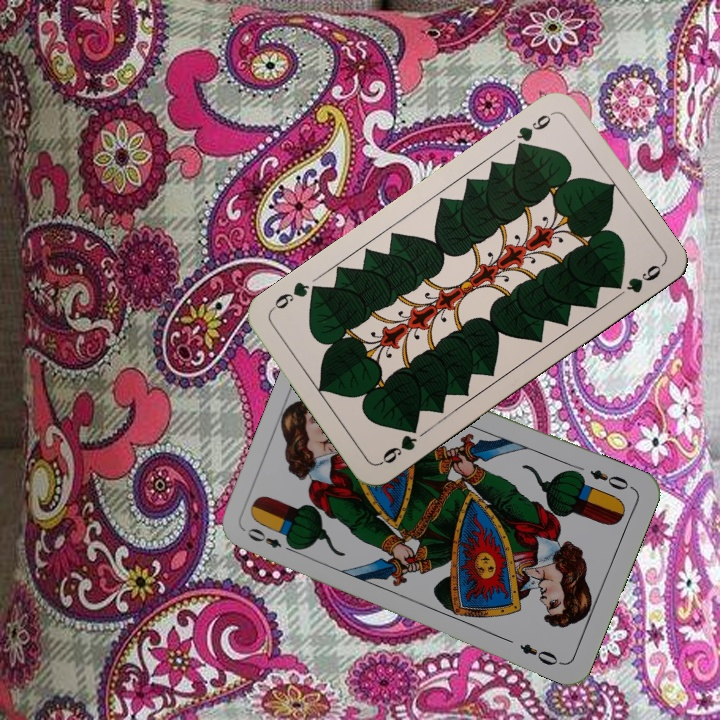EO: (243, 524, 299, 556), (586, 465, 636, 493)
G9: (376, 420, 421, 468), (512, 107, 557, 154)
